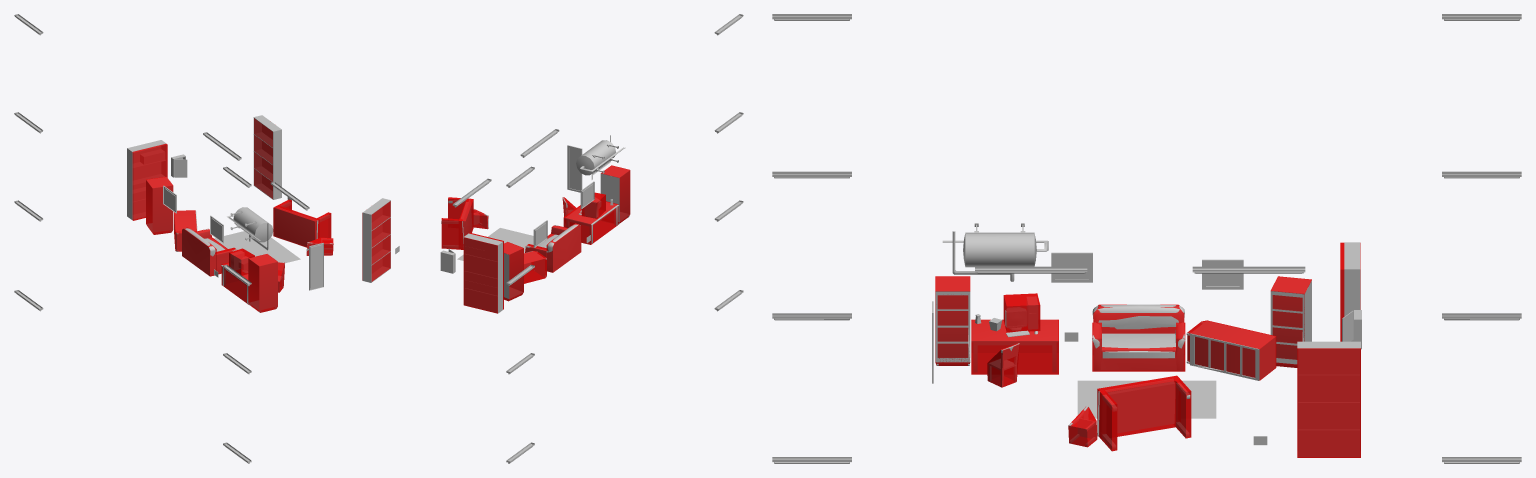
Rendered from Building_05_Int_Props.dae.
3 views of the same model, side by side, from view 1: azimuth 30°, elevation 25°; view 2: azimuth 150°, elevation 25°; view 3: azimuth 270°, elevation 25° (orthographic). The views are drawn at different scales.
Visible parts, largest first — view 1: Int_005_props400, colMesh-1; view 2: Int_005_props400, colMesh-1; view 3: Int_005_props400, colMesh-1.
Part boxes in pixels (bbox=[...]): Int_005_props400: bbox=[14, 14, 333, 463]; colMesh-1: bbox=[132, 118, 333, 312]; Int_005_props400: bbox=[362, 14, 743, 463]; colMesh-1: bbox=[362, 165, 630, 313]; Int_005_props400: bbox=[772, 14, 1521, 463]; colMesh-1: bbox=[935, 242, 1360, 457].
Bounding box in the file's own units: 8.42 × 11.36 × 17.2.
